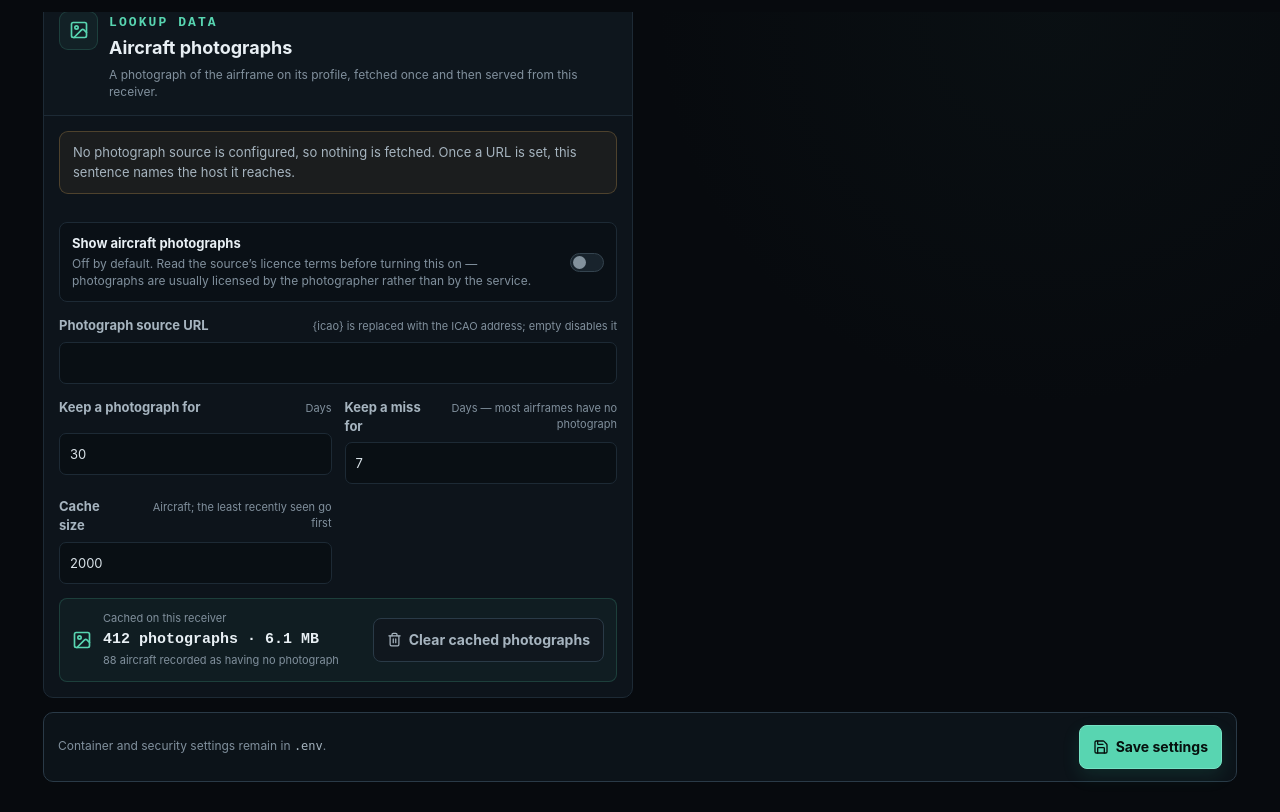
Scenario: the aircraft photograph card › reports what the cache holds and clears it on request
(page scrolled)
Expected: the text "412 photographs · 6.1 MB" is shown, [103, 631, 319, 648]
Expected: the text "88 aircraft recorded as having no photograph" is shown, [103, 653, 362, 669]
Click the button "Clear cached photographs" at [488, 640], box [373, 618, 604, 662]
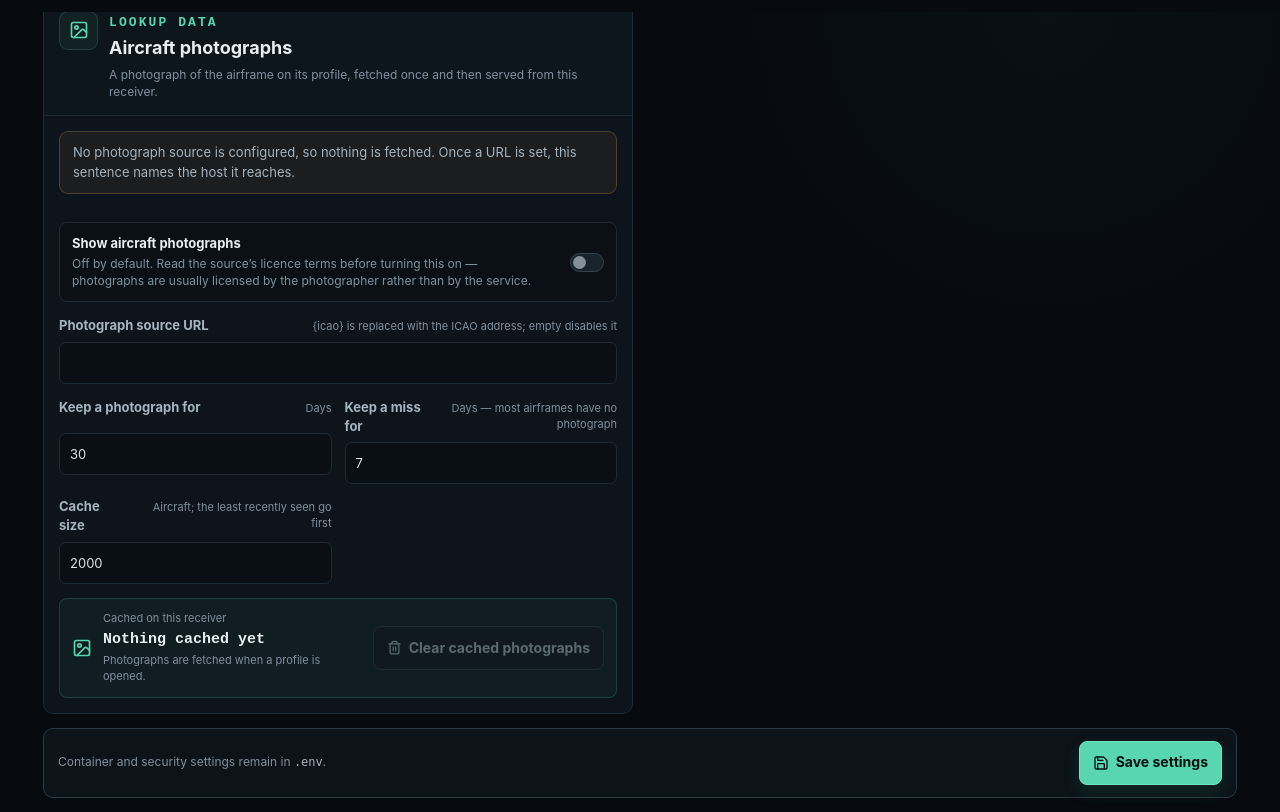
Result: the text "Nothing cached yet" is shown at [103, 631, 265, 648]
